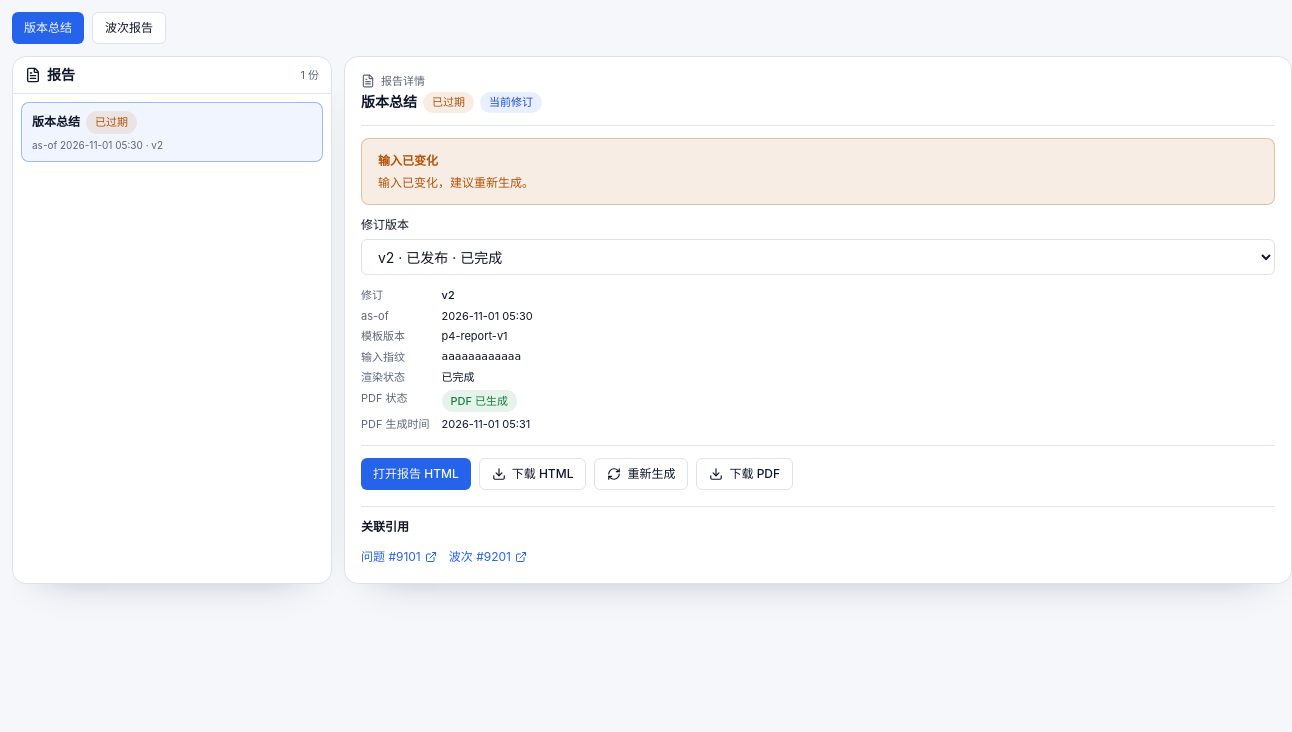
Test case: ReportsTab › shows an inline error when opening the HTML fails
Expected: the button with test id "report-8101" is shown, x1=21 y1=102 x2=323 y2=162
Click the button "打开报告 HTML" at [416, 474], box x1=361 y1=458 x2=471 y2=490
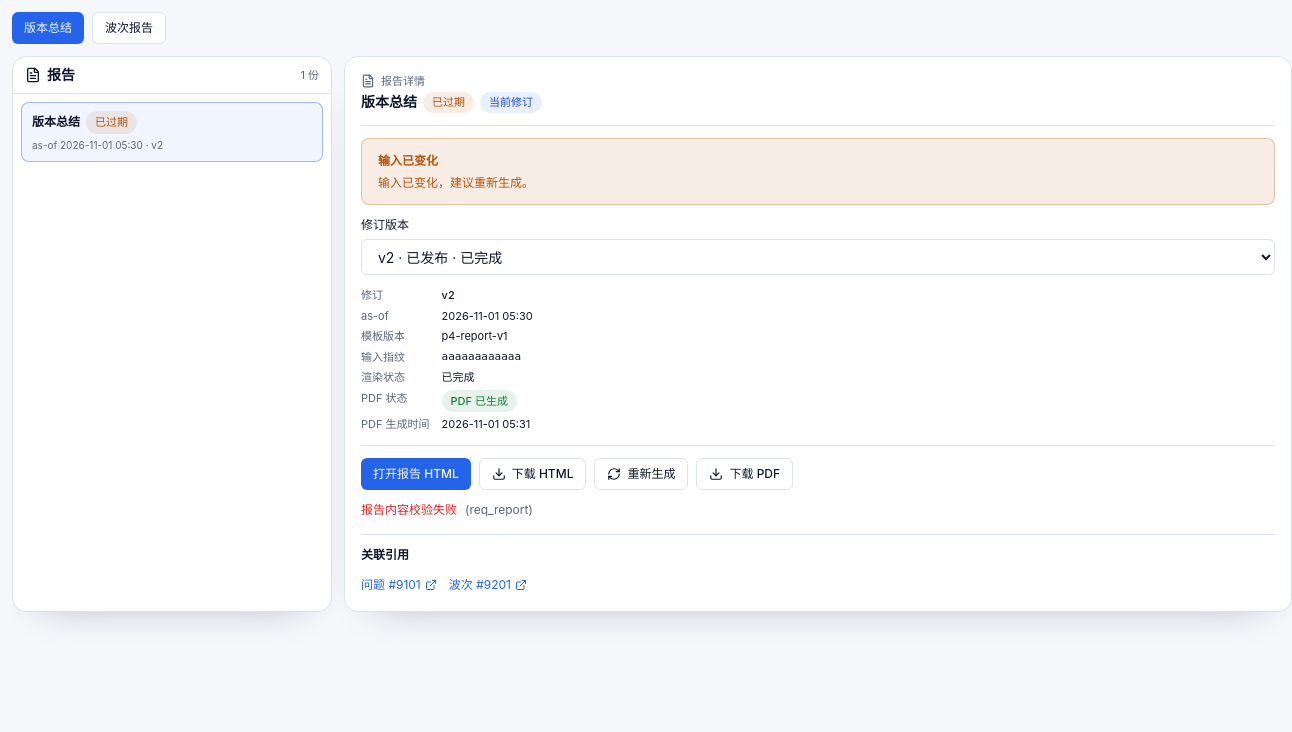
Expected: the text "报告内容校验失败" is shown, x1=361 y1=502 x2=457 y2=517
